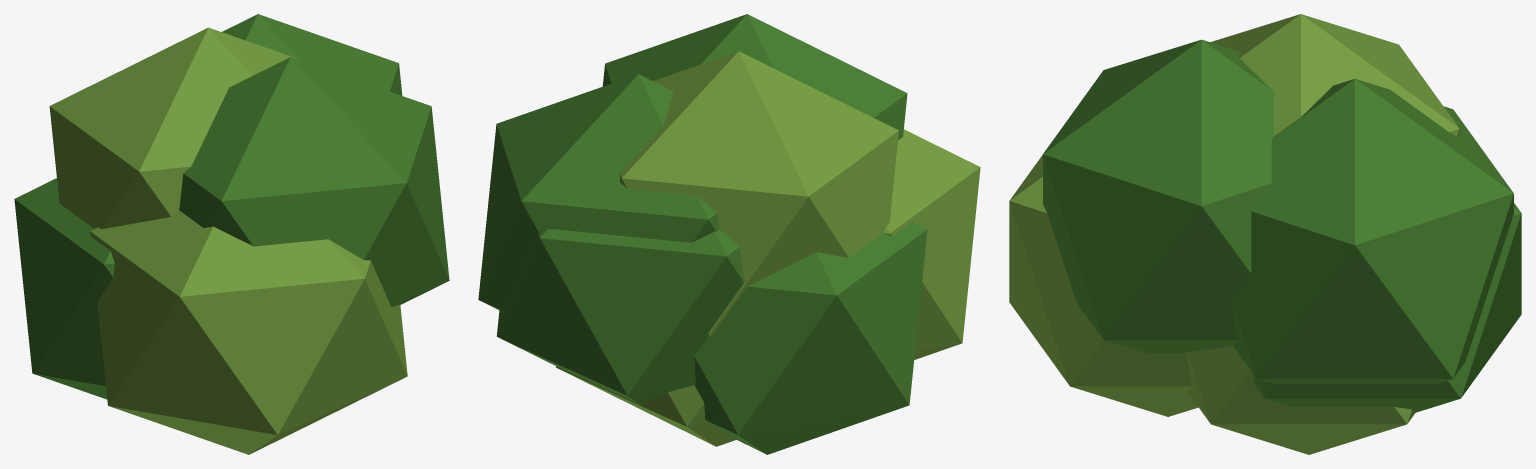
Rendered from foliage_bush.glb.
3 renders of one model, left to right at view 1: azimuth 30°, elevation 25°; view 2: azimuth 150°, elevation 25°; view 3: azimuth 270°, elevation 25°, orthographic. The views are drawn at different scales.
Visible parts, largest first — view 1: foliage_bush; view 2: foliage_bush; view 3: foliage_bush.
Part boxes in pixels (x1,y1,x2,y2): foliage_bush: [14, 14, 449, 454]; foliage_bush: [478, 14, 980, 454]; foliage_bush: [1009, 14, 1521, 454].
Size of the model in its own units: 1.18 by 1.15 by 1.23.
